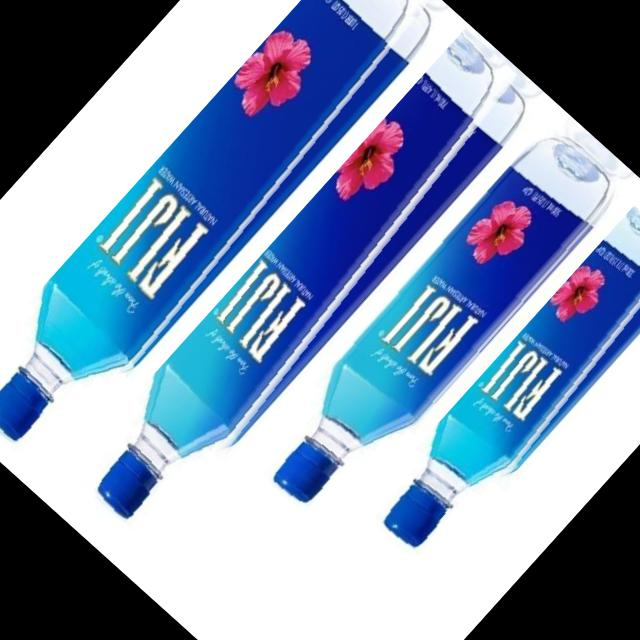plastic bottle: (59, 26, 550, 554), (0, 0, 452, 478), (244, 116, 632, 530), (361, 199, 640, 569)
